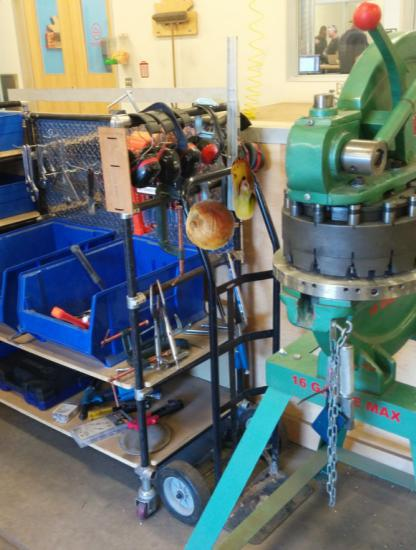Banana: (211, 156, 276, 221)
Onion: (183, 198, 237, 252)
